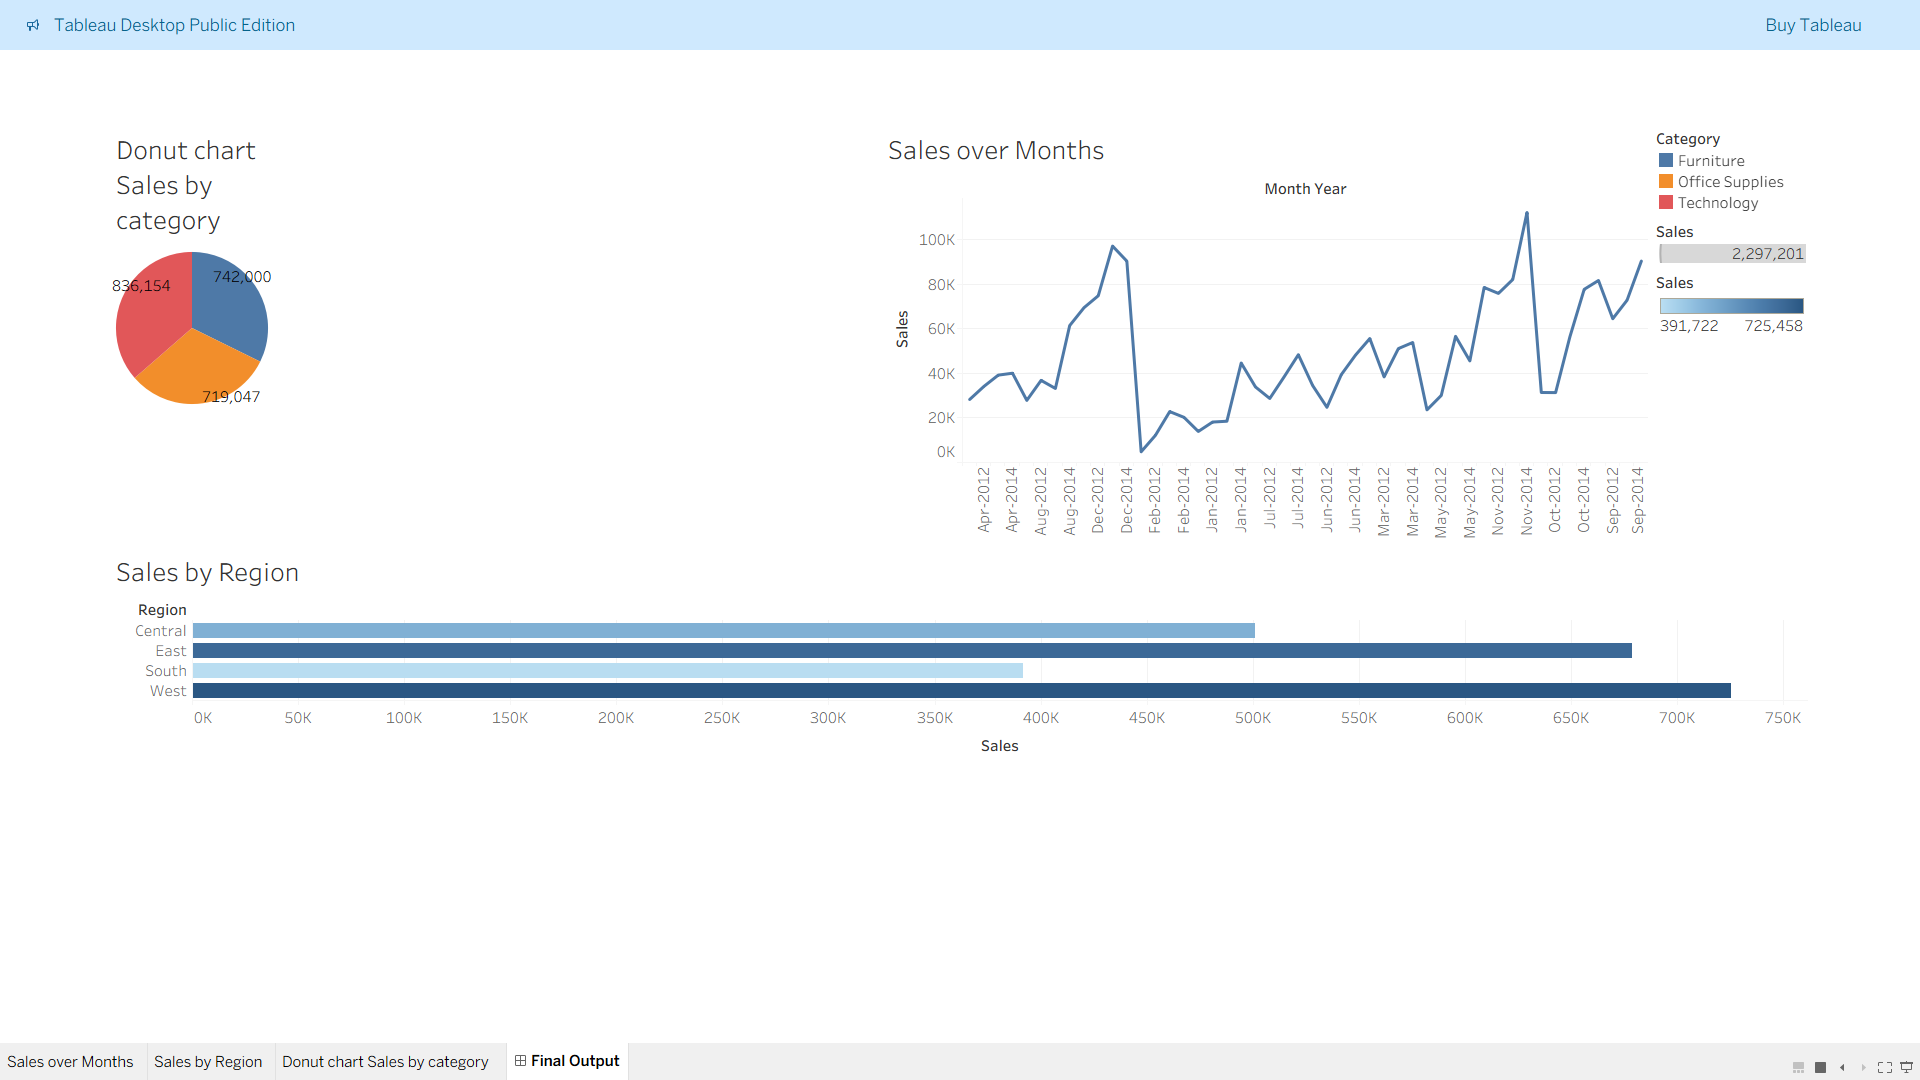

What the dashboard file says about the page in this screenshot:
{"tool":"tableau","page":{"name":"Final Output","canvas":[1000,1000],"units":"permille","ordinal":0},"visuals":[{"type":"worksheet","title":"Donut chart Sales by category","mark":"Pie","box":[4.9,9.5,446.4,490.5]},{"type":"worksheet","title":"Sales over Months","mark":"Line","rows":["Sales"],"cols":["Month_Year"],"box":[451.2,9.5,446.4,490.5]},{"type":"legend","title":"Donut chart Sales by category","param":"[federated.1v45shz00kt4bt17khfyr1d5ve8h].[none:Category:nk]","box":[897.6,9.5,97.5,110.1]},{"type":"legend","title":"Donut chart Sales by category","param":"[federated.1v45shz00kt4bt17khfyr1d5ve8h].[sum:Sales:qk]","box":[897.6,119.5,97.5,60.4]},{"type":"legend","title":"Sales by Region","param":"[federated.1v45shz00kt4bt17khfyr1d5ve8h].[sum:Sales:qk]","box":[897.6,179.9,97.5,86.4]},{"type":"worksheet","title":"Sales by Region","mark":"Automatic","rows":["Region"],"cols":["Sales"],"box":[4.9,500,990.2,490.5]}]}

Visuals, with their boxes on the dashboard's canvas, which has no fixed pixel size, in thousandths of its width and height (x1, y1, x2, y2). These are canvas units, not pixel positions in the 1920x1080 screenshot, which may show the page scaled, cropped or inside an application window:
"Donut chart Sales by category" worksheet (Pie marks): 5:10:451:500
"Sales over Months" worksheet (Line marks): 451:10:898:500
"Donut chart Sales by category" legend: 898:10:995:120
"Donut chart Sales by category" legend: 898:120:995:180
"Sales by Region" legend: 898:180:995:266
"Sales by Region" worksheet: 5:500:995:990
